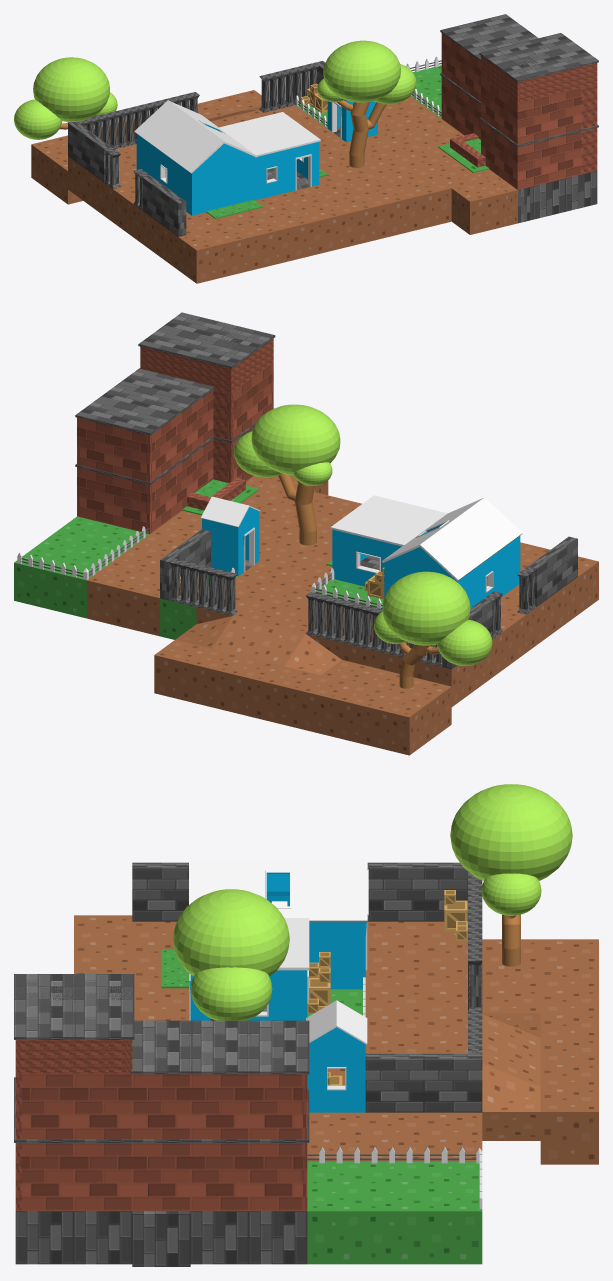
File: SigmaCityTest5.glb
The picture shows the model from 3 angles, top to bottom: view 1: azimuth 30°, elevation 25°; view 2: azimuth 150°, elevation 25°; view 3: azimuth 270°, elevation 25°; orthographic projection. The views are drawn at different scales.
Visible parts, largest first — view 1: Tree, Tree2, Dirt.065, Dirt.057, CornerWall.001, Dirt.058, Dirt.059, Dirt.063, Dirt.060, Dirt.056, Dirt.061, Dirt.062 (+83 smaller); view 2: Tree2, Tree, Dirt.029, Dirt.025, Dirt.027, Dirt.021, Dirt.043, Dirt.023, Dirt.020, Dirt.055, LongWindow, Grass.008 (+75 smaller); view 3: Tree2, Tree, Grass.009, Grass.007, Dirt.043, Grass.008, SlantRoof, Wall.014, Wall.015, Wall.012, DirtSlopeCorner, Wall.024 (+79 smaller).
Boxes of the visible parts, box(x1,y1,x2,y2) form: Tree: box(317, 40, 416, 167); Tree2: box(14, 57, 117, 139); Dirt.065: box(451, 180, 501, 234); Dirt.057: box(178, 229, 228, 283); CornerWall.001: box(173, 160, 223, 215); Dirt.058: box(210, 221, 260, 275); Dirt.059: box(242, 214, 292, 267); Dirt.063: box(402, 175, 451, 229); Dirt.060: box(274, 206, 324, 260); Dirt.056: box(338, 190, 387, 244); Dirt.061: box(306, 198, 355, 252); Dirt.062: box(370, 182, 419, 236); Tree2: box(374, 571, 492, 688); Tree: box(234, 404, 340, 545); Dirt.029: box(373, 693, 430, 755); Dirt.025: box(300, 675, 357, 737); Dirt.027: box(336, 684, 393, 746); Dirt.021: box(227, 657, 284, 719); Dirt.043: box(154, 639, 211, 701); Dirt.023: box(263, 666, 320, 728); Dirt.020: box(190, 648, 247, 710); Dirt.055: box(87, 565, 143, 627); LongWindow: box(332, 533, 397, 586); Grass.008: box(14, 547, 70, 609); Tree2: box(450, 784, 572, 966); Tree: box(173, 889, 289, 1020); Grass.009: box(307, 1186, 365, 1264); Grass.007: box(365, 1186, 423, 1264); Dirt.043: box(540, 1087, 598, 1164); Grass.008: box(424, 1186, 482, 1264); SlantRoof: box(305, 858, 367, 922); Wall.014: box(132, 1143, 190, 1211); Wall.015: box(190, 1143, 248, 1211); Wall.012: box(74, 1143, 132, 1211); DirtSlopeCorner: box(482, 1063, 540, 1140); Wall.024: box(132, 1074, 190, 1139).
Size of what is drawn, in the model's own units: 26.68 by 9.9 by 20.06.
Materials: 13 (6 with a texture image).
